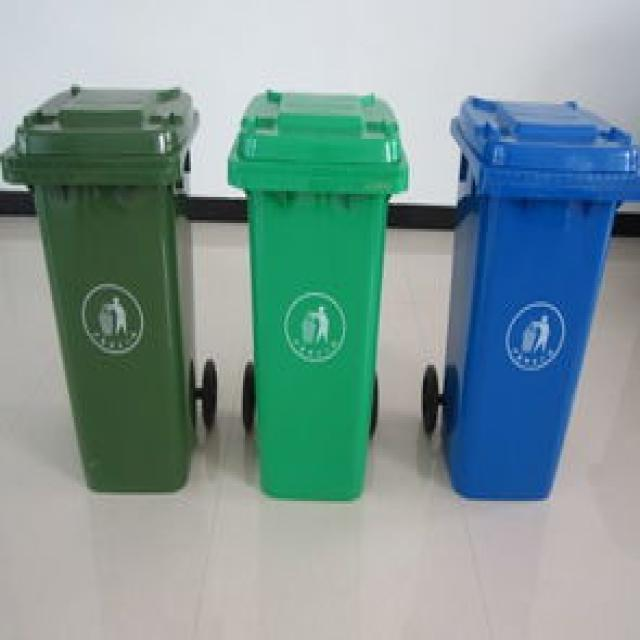garbage_bin: (0, 83, 197, 492), (440, 93, 638, 498), (226, 84, 406, 498)
